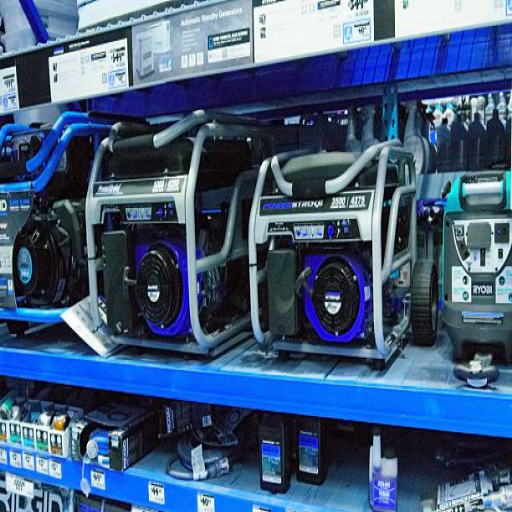portable_generator: (86, 111, 262, 356), (248, 142, 418, 366), (1, 109, 140, 326)
